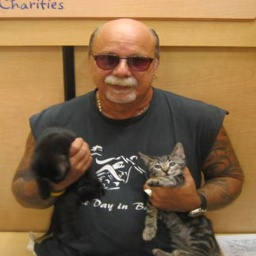cat: (20, 126, 235, 256)
